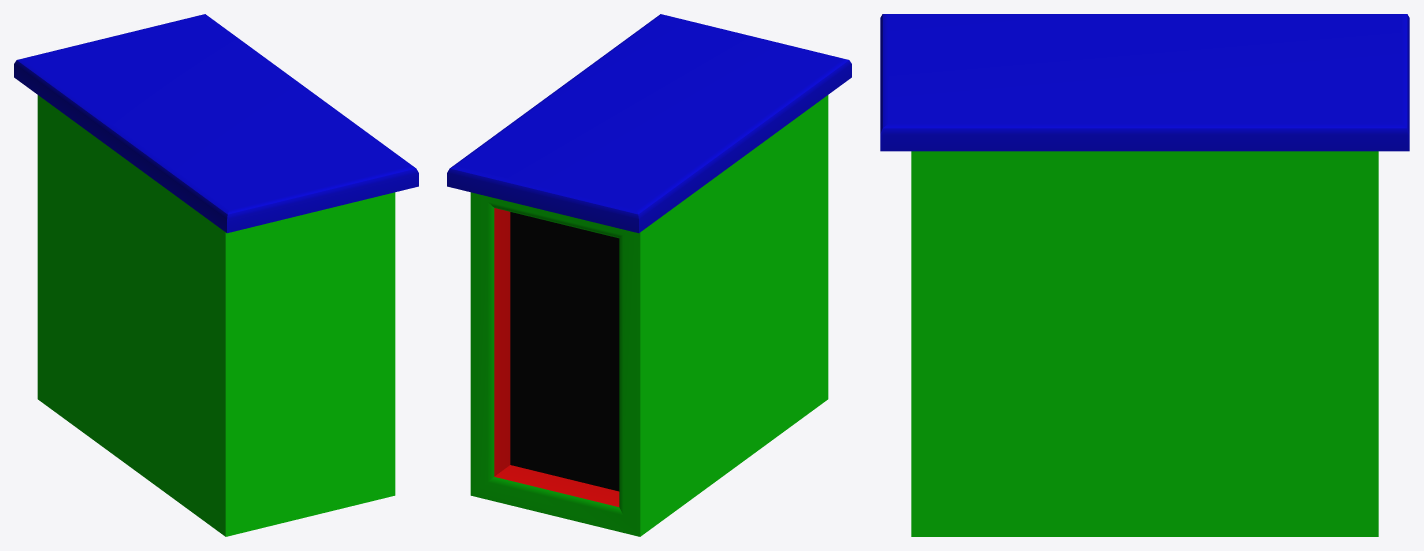
The model's file is GB_Village_House_10.fbx.
3 views of the same model, side by side, from view 1: azimuth 30°, elevation 25°; view 2: azimuth 150°, elevation 25°; view 3: azimuth 270°, elevation 25° (orthographic). The views are drawn at different scales.
Visible parts, largest first — view 1: GB_Village_House_10; view 2: GB_Village_House_10; view 3: GB_Village_House_10.
Part boxes in pixels (left/top/right/bottom): GB_Village_House_10: left=14, top=14, right=418, bottom=536; GB_Village_House_10: left=447, top=14, right=851, bottom=536; GB_Village_House_10: left=880, top=14, right=1409, bottom=536.
Bounding box in the file's own units: 18.56 × 30.95 × 35.67.
